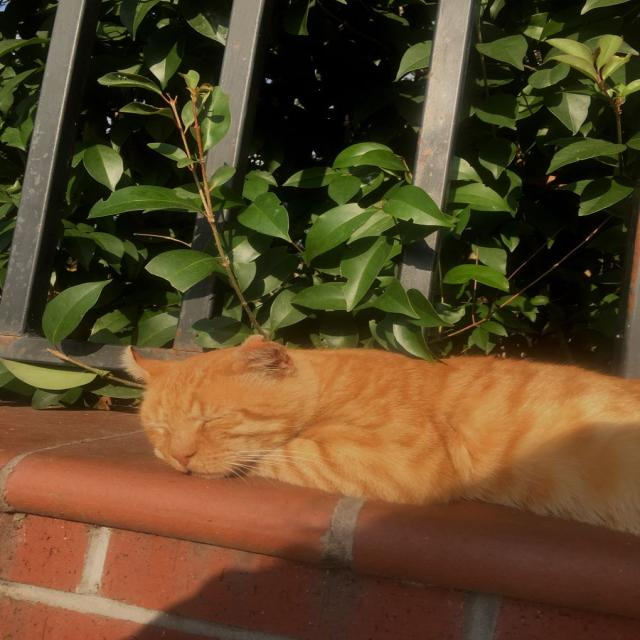sarman: (53, 319, 640, 640)
